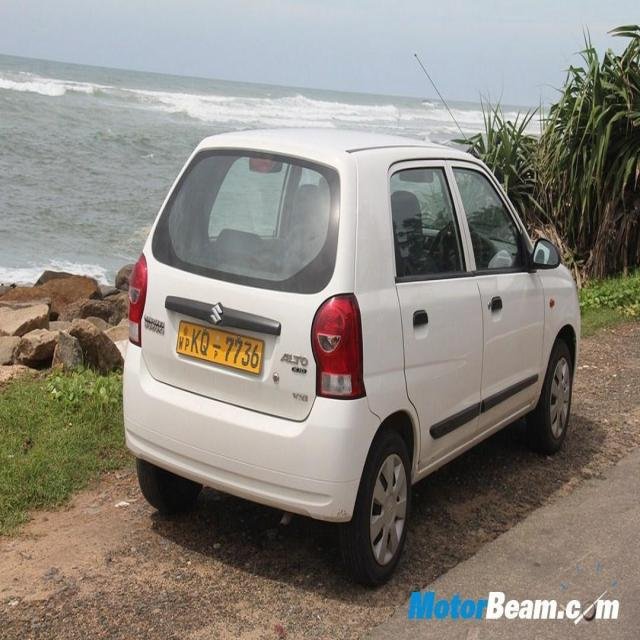license-plate: (179, 319, 261, 373)
